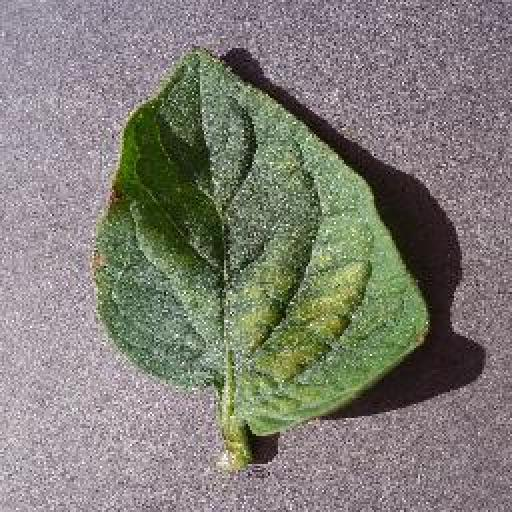Spider Mites: (92, 43, 429, 437)
